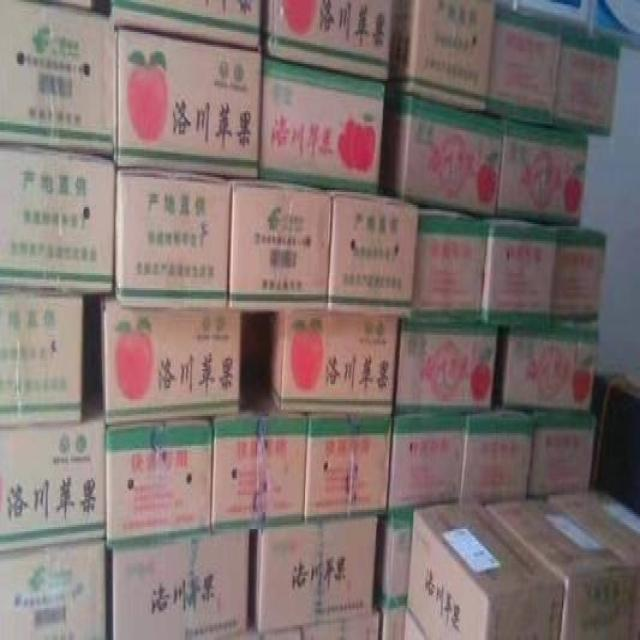box: (117, 27, 261, 177), (406, 504, 564, 638), (485, 499, 635, 638), (100, 293, 240, 424), (0, 0, 117, 155), (0, 143, 116, 295), (0, 390, 106, 553), (259, 56, 385, 191), (114, 167, 231, 308), (379, 89, 504, 214), (248, 516, 377, 635), (209, 383, 308, 534), (112, 530, 249, 638), (106, 417, 213, 550), (227, 177, 332, 310), (267, 311, 399, 414), (546, 492, 639, 638), (385, 0, 496, 110), (323, 189, 418, 317), (0, 292, 82, 427), (259, 0, 393, 80), (376, 411, 466, 530), (489, 117, 588, 225), (393, 312, 498, 412), (0, 539, 106, 638), (303, 411, 392, 527), (460, 372, 534, 506), (485, 4, 565, 124), (494, 322, 597, 415), (409, 211, 487, 326), (479, 215, 557, 328), (553, 18, 622, 136), (109, 0, 260, 48), (542, 222, 606, 322), (528, 411, 596, 495), (374, 520, 412, 611), (302, 602, 379, 638), (373, 600, 406, 638), (223, 616, 260, 638), (403, 606, 426, 638), (33, 0, 92, 9), (259, 627, 303, 638)
